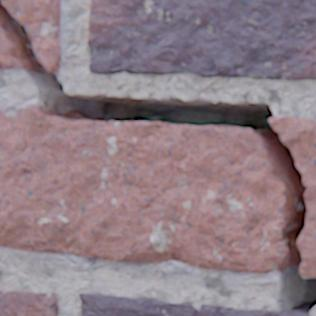brick: (88, 0, 315, 81), (80, 293, 309, 315), (0, 290, 59, 315)
broken_brick: (0, 106, 285, 273), (270, 118, 315, 276), (2, 0, 62, 72), (0, 29, 24, 70)
crack: (0, 0, 315, 314), (5, 112, 15, 120)
